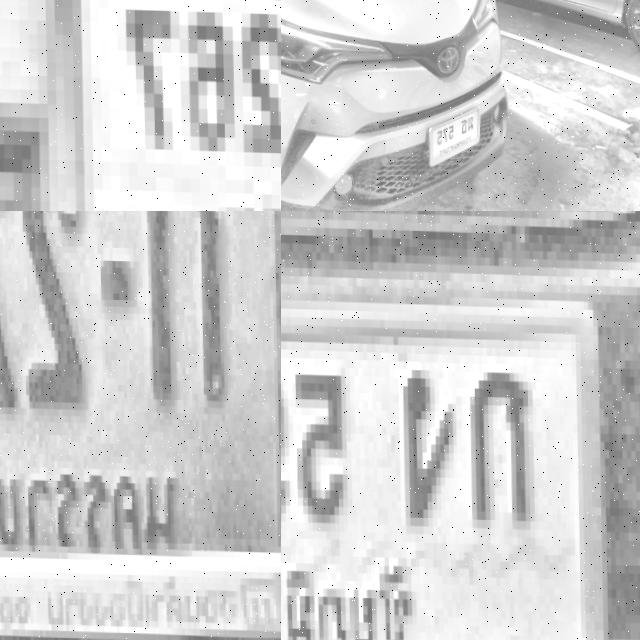license-plate: (281, 211, 640, 640), (0, 211, 281, 640), (0, 0, 281, 211), (423, 104, 479, 171)
